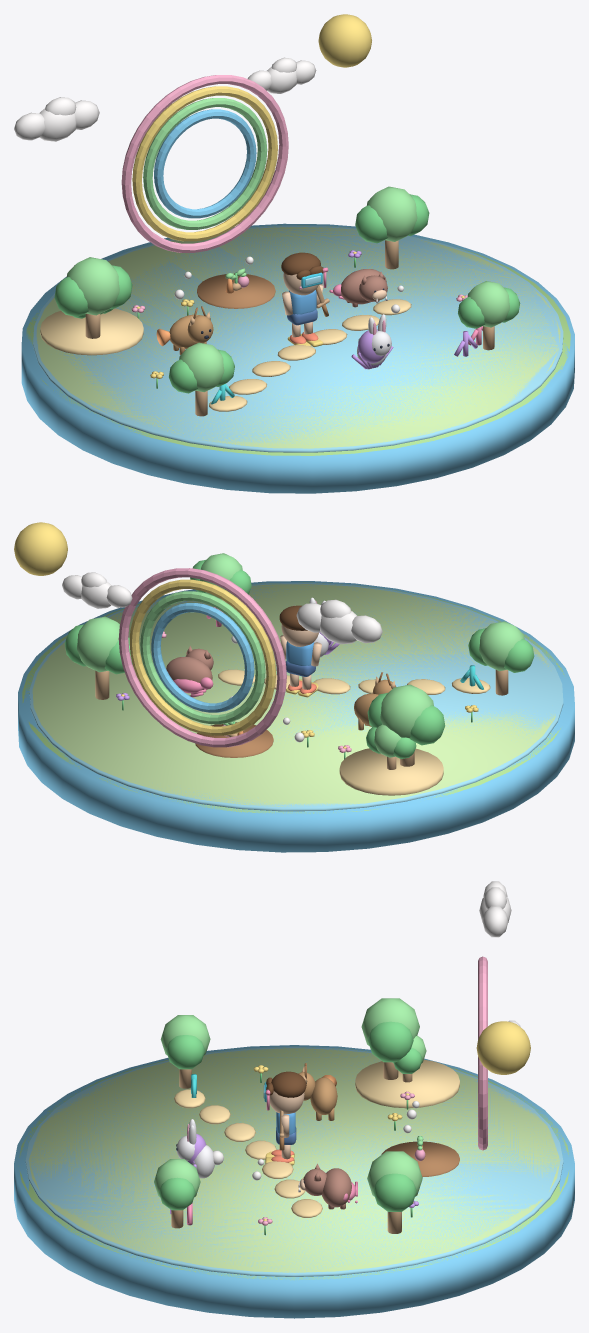
File: cute_adventure.glb
3 views of the same model, one above another, from view 1: azimuth 30°, elevation 25°; view 2: azimuth 150°, elevation 25°; view 3: azimuth 270°, elevation 25° (orthographic).
Visible parts, largest first — view 1: SEA_TOP, LAND_TOP, SEA_BASE, rainbow, rainbow.001, rainbow.002, SAND_ISLAND, LAND_BASE, rainbow.003, SUN_ICON, leafA, soil (+11 smaller); view 2: LAND_TOP, SEA_BASE, SEA_TOP, rainbow, rainbow.001, rainbow.002, SAND_ISLAND, rainbow.003, LAND_BASE, SUN_ICON, leafA, leafA.001 (+21 smaller); view 3: LAND_TOP, SEA_TOP, SEA_BASE, SAND_ISLAND, LAND_BASE, SUN_ICON, rainbow, leafB, leafA, soil, leafB.001, leafA.001 (+9 smaller).
Part boxes in pixels (x1,y1,x2,y2): SEA_TOP: (33, 225, 563, 452); LAND_TOP: (36, 227, 560, 448); SEA_BASE: (21, 223, 574, 493); rainbow: (121, 75, 288, 252); rainbow.001: (132, 86, 277, 241); rainbow.002: (143, 98, 267, 229); SAND_ISLAND: (40, 308, 143, 355); LAND_BASE: (26, 225, 570, 455); rainbow.003: (154, 109, 256, 218); SUN_ICON: (318, 14, 371, 67); leafA: (66, 257, 119, 315); soil: (197, 273, 275, 308); LAND_TOP: (32, 584, 555, 806); SEA_BASE: (18, 581, 574, 852); SEA_TOP: (29, 583, 563, 811); rainbow: (118, 568, 286, 747); rainbow.001: (129, 579, 275, 735); rainbow.002: (140, 591, 265, 724); SAND_ISLAND: (339, 748, 443, 795); rainbow.003: (151, 603, 254, 712); LAND_BASE: (22, 582, 564, 813); SUN_ICON: (14, 522, 67, 575); leafA: (380, 684, 433, 738); leafA.001: (77, 616, 119, 672); LAND_TOP: (28, 1048, 560, 1272); SEA_TOP: (25, 1047, 563, 1276); SEA_BASE: (14, 1045, 574, 1318); SAND_ISLAND: (355, 1059, 459, 1108); LAND_BASE: (18, 1046, 569, 1280); SUN_ICON: (476, 1021, 530, 1074); rainbow: (478, 956, 487, 1150); leafB: (367, 1021, 413, 1062); leafA: (361, 998, 419, 1045); soil: (381, 1141, 459, 1177); leafB.001: (373, 1173, 416, 1211); leafA.001: (367, 1151, 422, 1196).
Size of the model in its own units: 13.4 by 6.61 by 13.4.
